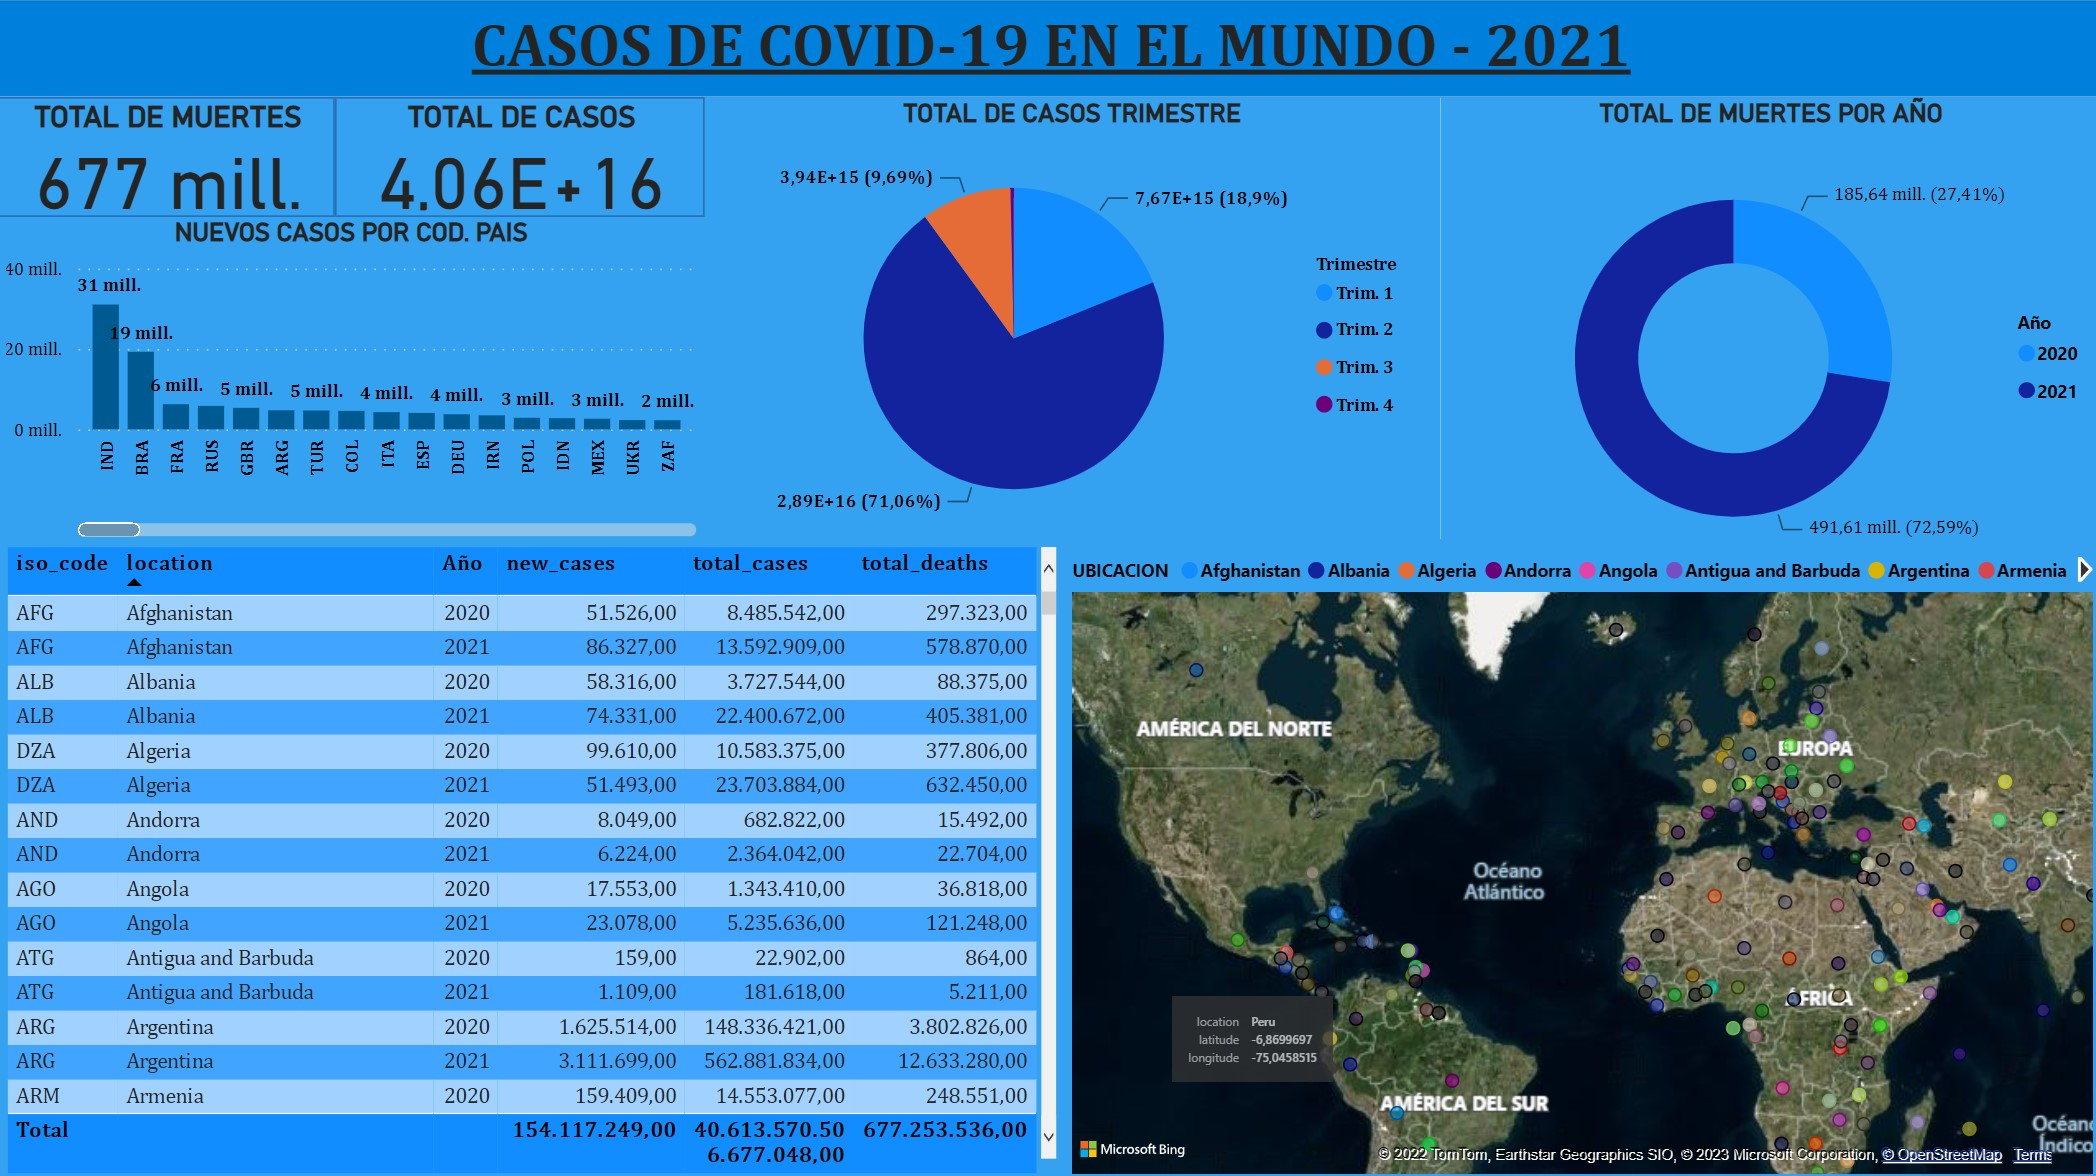

Layout of this report page (visuals, bound fields, positions):
{"tool":"powerbi","page":{"name":"Página 1","canvas":[1280,720],"ordinal":0},"visuals":[{"type":"pieChart","title":"TOTAL DE CASOS TRIMESTRE","fields":{"Y":["Sum(casos_countries.total_cases)"],"Series":["casos_countries.fecha.Variación.Jerarquía de fechas.Trimestre"]},"box":[429.9,59.6,448.3,275.5],"z":0},{"type":"tableEx","fields":{"Values":["casos_countries.iso_code","casos_countries.location","casos_countries.fecha.Variación.Jerarquía de fechas.Año","Sum(casos_countries.new_cases)","Sum(casos_countries.total_cases)","Sum(casos_countries.total_deaths)"]},"box":[0,328.5,648.5,391.3],"z":2000},{"type":"donutChart","title":"TOTAL DE MUERTES POR AÑO","fields":{"Category":["casos_countries.fecha.Variación.Jerarquía de fechas.Año"],"Y":["Sum(casos_countries.total_deaths)"]},"box":[878.2,59.6,401.8,300.4],"z":3000},{"type":"map","fields":{"X":["casos_countries.longitude"],"Y":["casos_countries.latitude"],"Series":["casos_countries.location"]},"box":[648.5,328.5,631.5,391.3],"z":3500},{"type":"lineStackedColumnComboChart","title":"NUEVOS CASOS POR COD. PAIS","fields":{"Y":["Sum(casos_countries.new_cases)"],"Category":["casos_countries.iso_code"]},"box":[0,132.2,429.9,199.6],"z":4000},{"type":"textbox","box":[0,0,1280,59.6],"z":5000},{"type":"card","title":"TOTAL DE MUERTES","fields":{"Values":["casos_countries.TOTAL_MUERTES"]},"box":[0,59.6,204.8,72.6],"z":6000},{"type":"card","title":"TOTAL DE CASOS","fields":{"Values":["casos_countries.TOTAL_CASOS"]},"box":[204.8,59.6,225.1,72.6],"z":7000},{"type":"actionButton","box":[0,0,100,40],"z":7001}]}

Visuals, with their boxes in screenshot pixels (x1, y1, x2, y2), scaled from the page's 1280x720 canvas onto the 2096x1176 screenshot:
"TOTAL DE CASOS TRIMESTRE" pieChart: [left=704, top=97, right=1438, bottom=547]
tableEx - casos_countries.iso_code x casos_countries.location: [left=0, top=537, right=1062, bottom=1175]
"TOTAL DE MUERTES POR AÑO" donutChart: [left=1438, top=97, right=2095, bottom=588]
map - casos_countries.longitude x casos_countries.latitude: [left=1062, top=537, right=2095, bottom=1175]
"NUEVOS CASOS POR COD. PAIS" lineStackedColumnComboChart: [left=0, top=216, right=704, bottom=542]
textbox: [left=0, top=0, right=2095, bottom=97]
"TOTAL DE MUERTES" card: [left=0, top=97, right=335, bottom=216]
"TOTAL DE CASOS" card: [left=335, top=97, right=704, bottom=216]
actionButton: [left=0, top=0, right=164, bottom=65]
